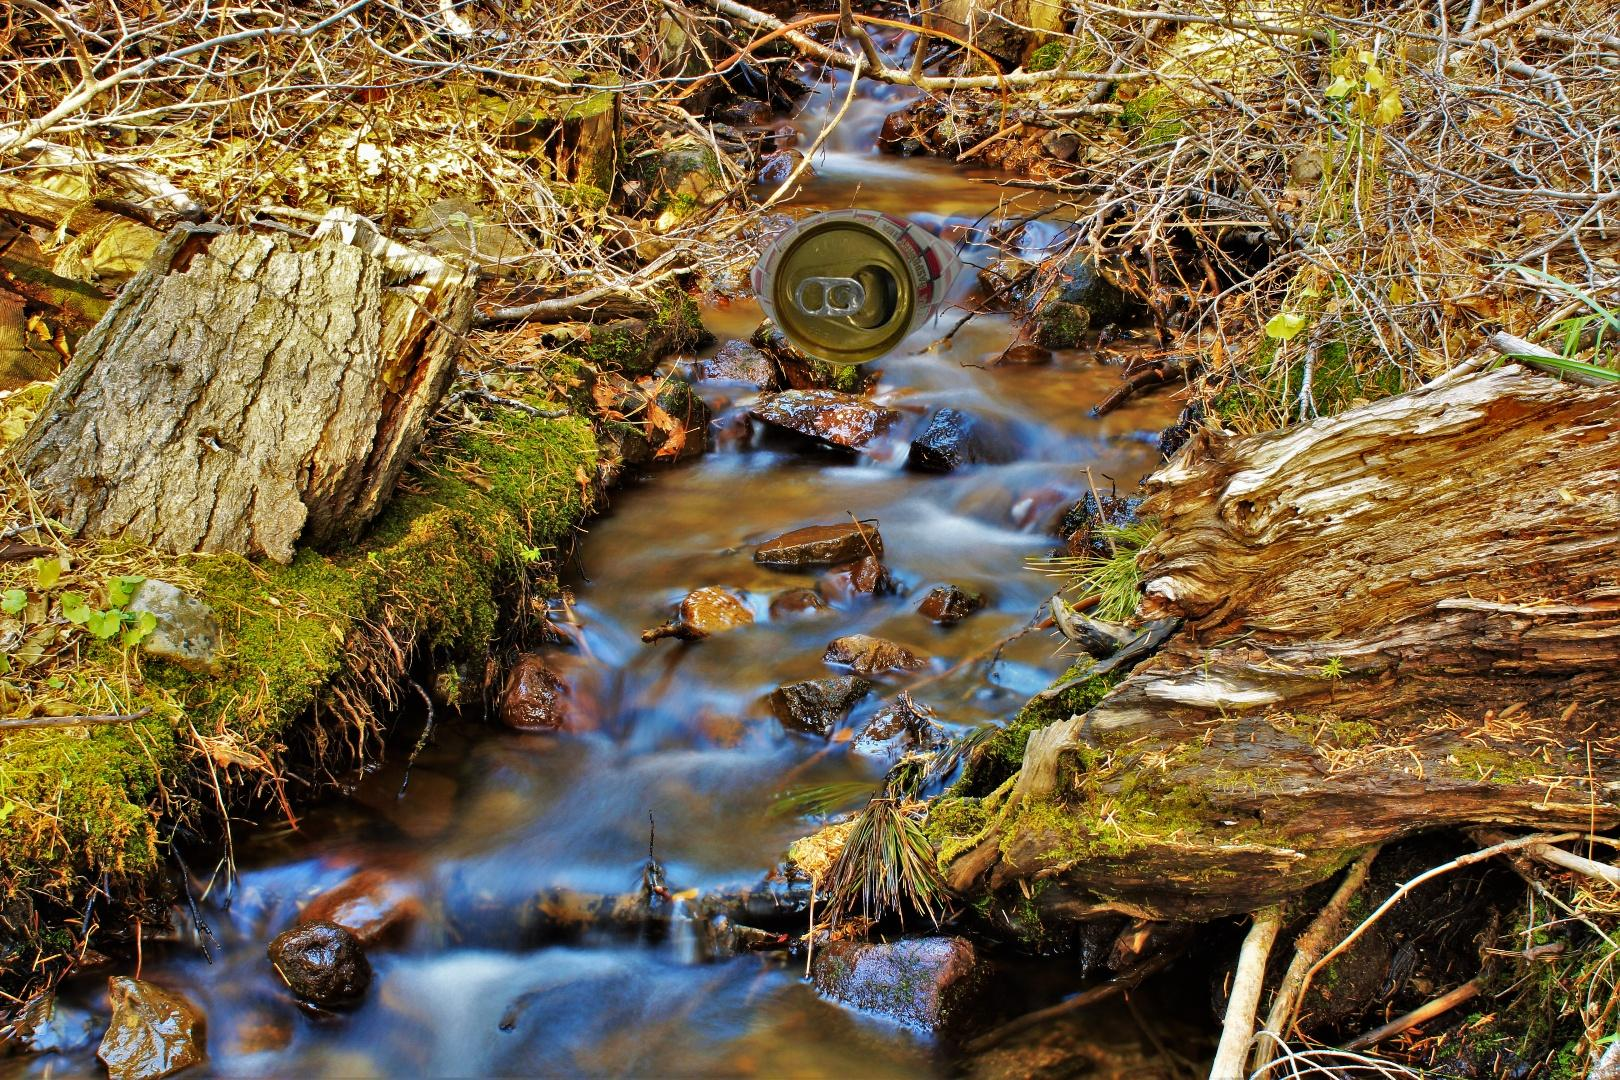metal-cans: (745, 205, 967, 369)
